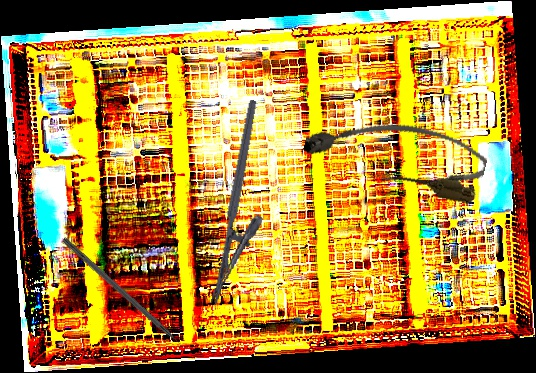Cannula: (299, 101, 492, 207)
Hook Surgical: (60, 236, 197, 360)
Needle Holder: (208, 99, 286, 311)
